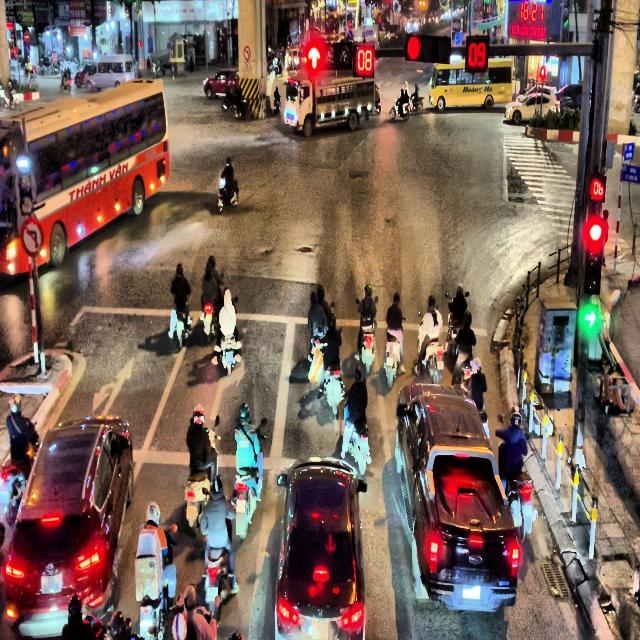lisence_plate: (40, 573, 66, 596), (310, 616, 329, 639), (461, 582, 482, 600)
